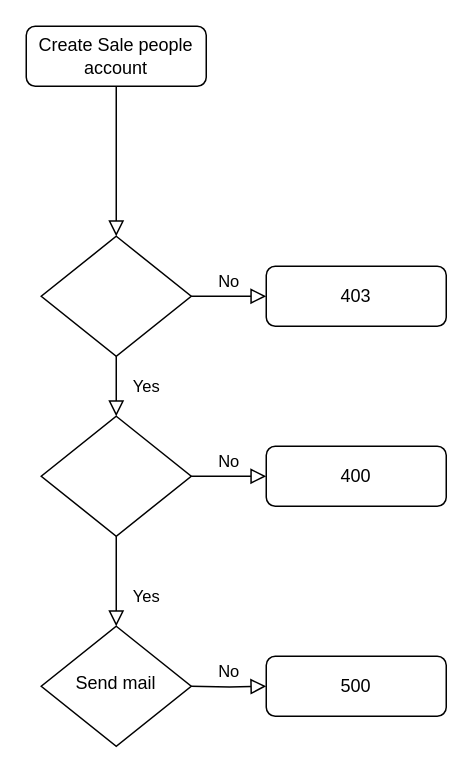
The diagram is 473 pixels wide and 773 high, and some of its shapes have lost their labels. The centre of each missing label's shape, as x and y in pixels:
"Admin Session ?" goes at (115,295).
"Full name and mail address ?" goes at (115,475).
